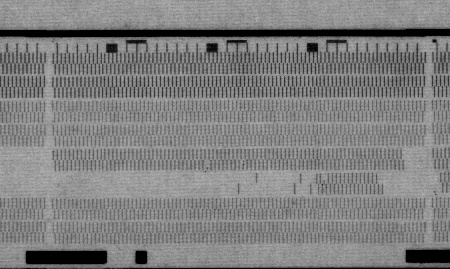Broken hole: (51, 167, 320, 200), (2, 146, 56, 199), (375, 170, 445, 199), (400, 148, 428, 173), (201, 160, 213, 173)
Oblique printing: (318, 171, 331, 186)
